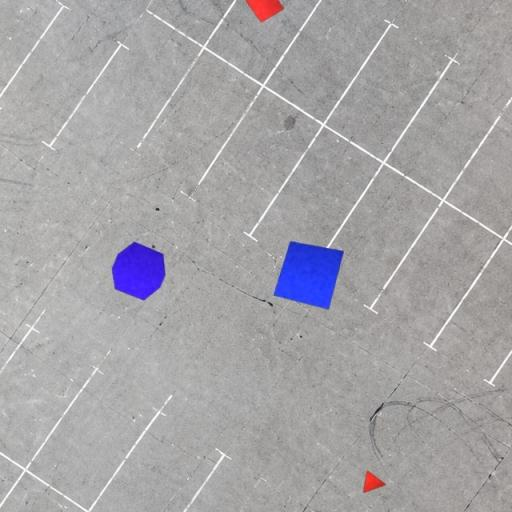BLUE_SQUARE: (273, 241, 345, 310)
RED_SQUARE: (243, 0, 285, 23)
